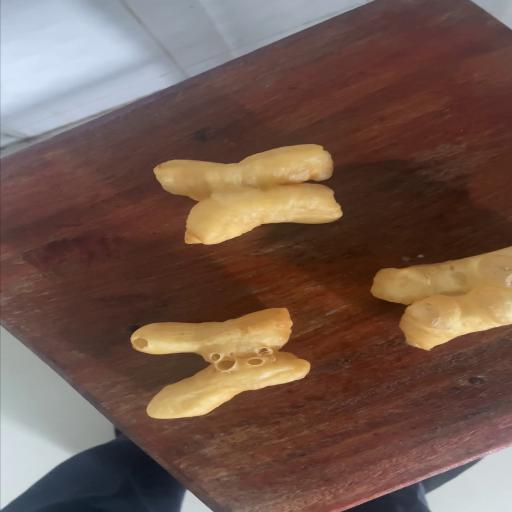street_golden_defect: (130, 308, 310, 419), (371, 247, 512, 350)
street_golden_good: (154, 144, 342, 244)
